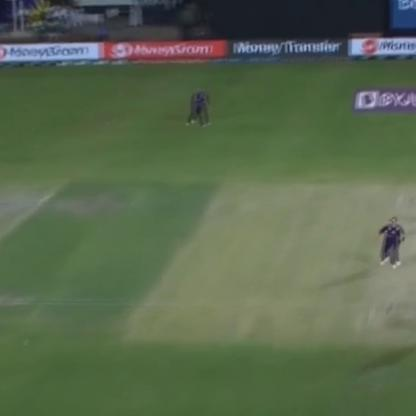ball: (16, 332, 34, 350)
pitch: (374, 186, 416, 340)
